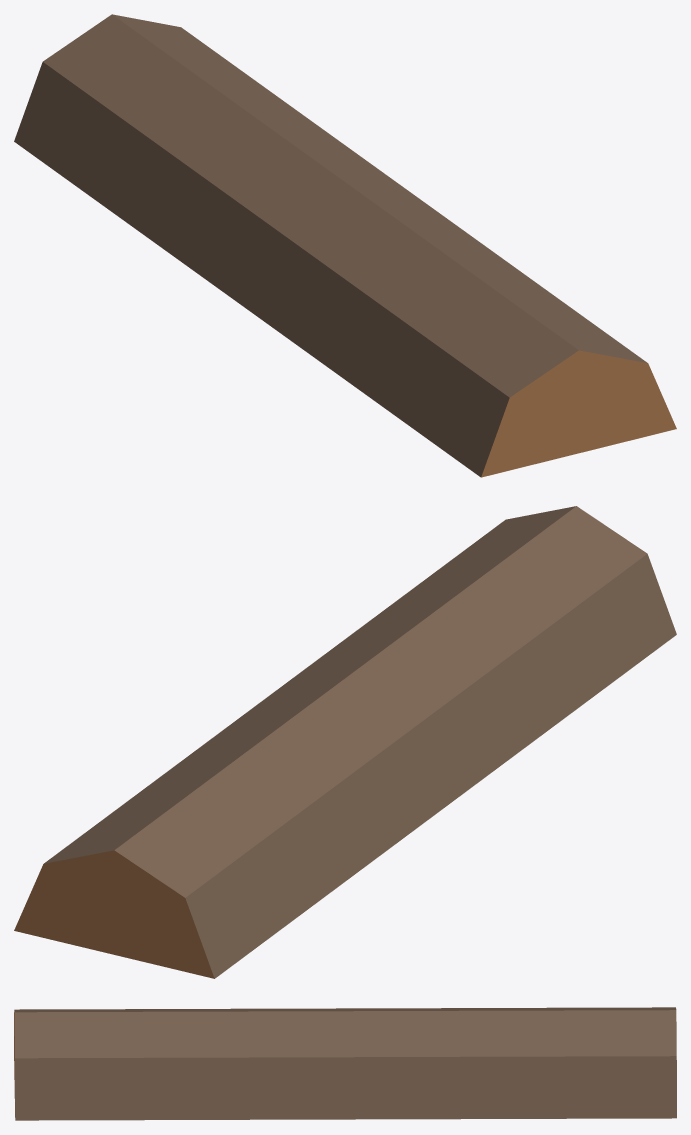
Rendered from Log.fbx.
3 views of the same model, one above another, from view 1: azimuth 30°, elevation 25°; view 2: azimuth 150°, elevation 25°; view 3: azimuth 270°, elevation 25° (orthographic). The views are drawn at different scales.
Visible parts, largest first — view 1: Log; view 2: Log; view 3: Log.
Boxes of the visible parts, x1,y1,x2,y2 form: Log: [14, 14, 676, 477]; Log: [14, 506, 676, 978]; Log: [14, 1007, 676, 1120].
Size of the model in its own units: 37.12 by 146 by 18.01.
